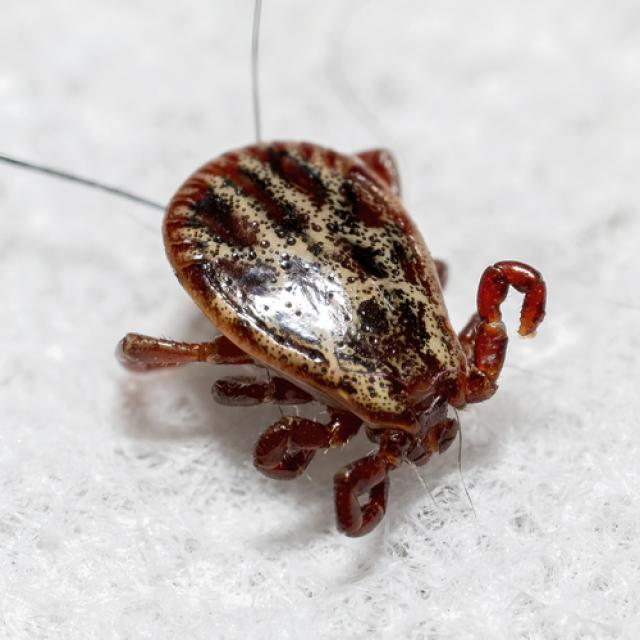Dermacentor Reticulatus-M: (115, 142, 549, 540)
